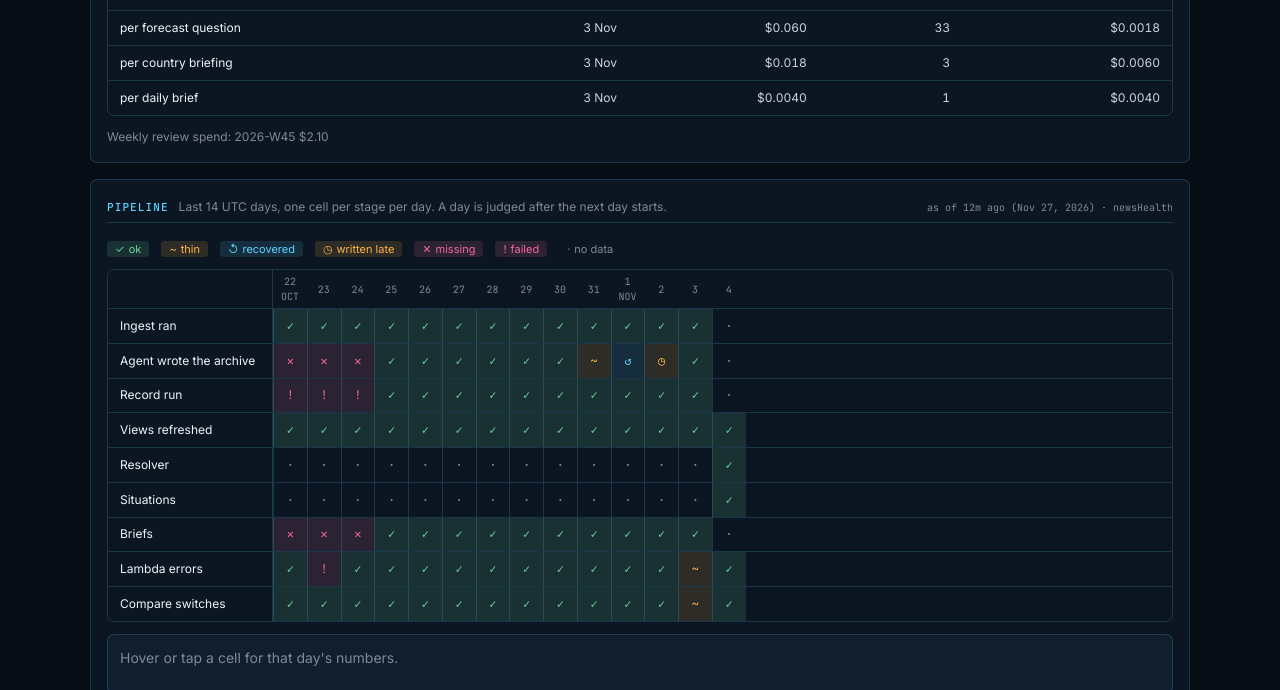
Scenario: OpsPage pipeline panel › a day rebuilt from public records is its own status, in the key and in the detail card, never "ok"
(page scrolled)
Check: the element named "Cell key" shows "recovered", box [242,242,295,256]
Click the button named "Agent wrote the archive, 1 Nov: recovered".
click(627, 361)  # box [610,344,644,378]
(page scrolled)
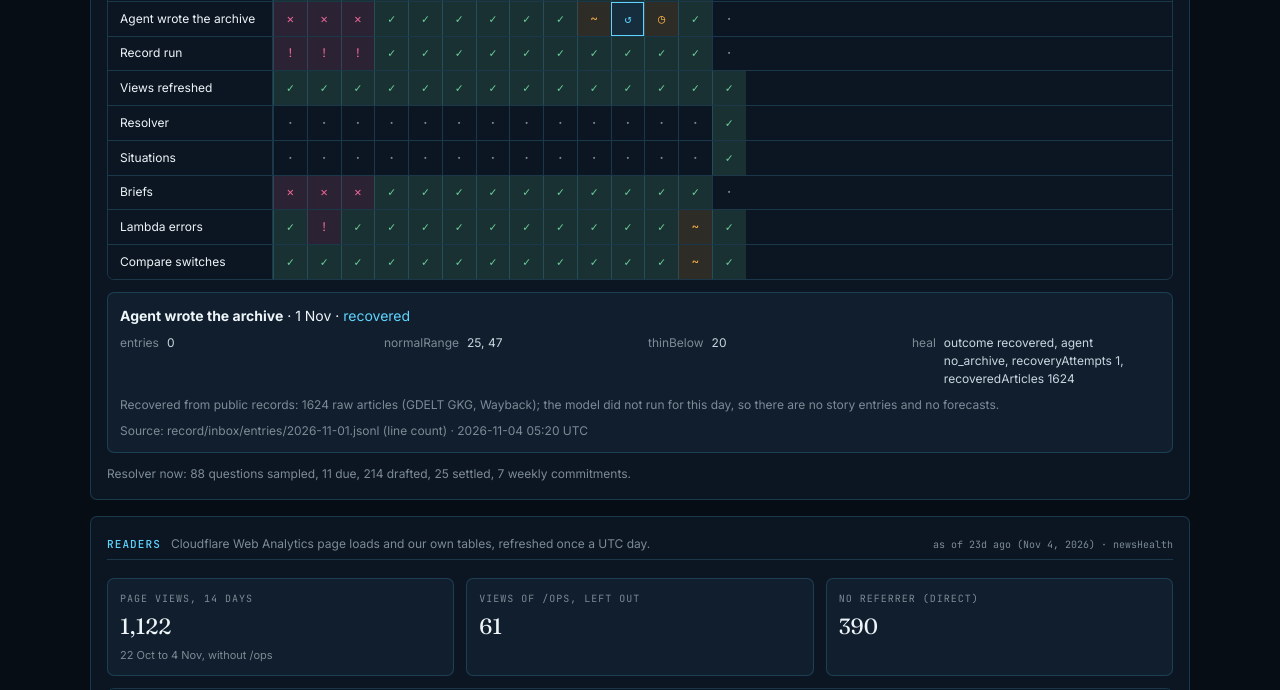
Check: the text "recovered" is shown, box [343,307,410,324]
Check: the text "no story entries and no forecasts" is shown, box [120,397,999,412]
Check: the text "heal" is shown, box [912,335,936,350]
